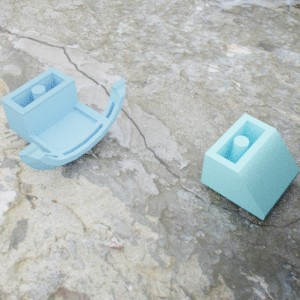lego: (0, 66, 125, 170), (200, 113, 300, 220)
